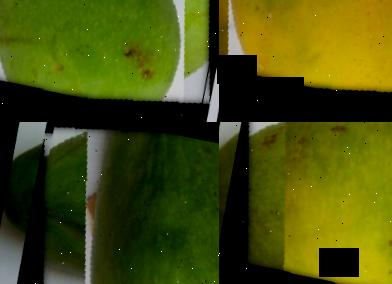PartiallyRipe: (219, 122, 392, 284), (219, 0, 392, 122)
Unripe: (12, 122, 219, 284), (0, 0, 219, 122)
